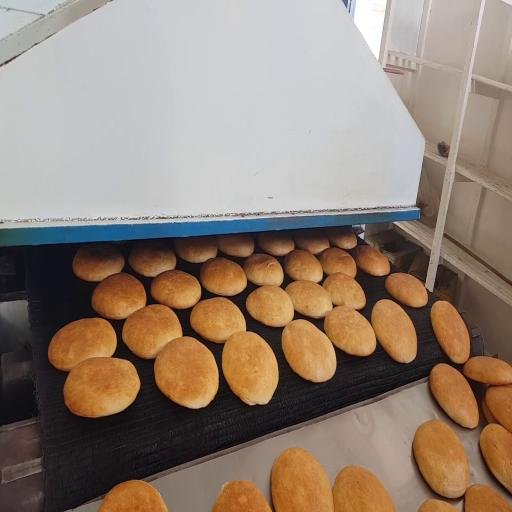bread: (154, 337, 218, 409), (64, 357, 140, 417), (413, 420, 469, 498), (222, 331, 278, 405), (271, 448, 334, 511), (48, 318, 116, 371), (282, 320, 336, 382), (123, 304, 182, 358), (430, 364, 479, 428), (372, 300, 417, 363), (333, 466, 395, 511), (324, 306, 376, 356), (92, 273, 146, 319), (190, 298, 246, 342), (431, 301, 470, 363), (480, 424, 511, 492), (99, 481, 167, 511), (73, 243, 124, 282), (246, 286, 294, 327), (151, 270, 201, 309), (128, 240, 177, 277), (213, 480, 271, 511), (200, 258, 247, 296), (286, 281, 332, 318), (323, 273, 365, 310), (385, 273, 427, 307), (463, 357, 511, 385), (284, 250, 323, 283), (243, 254, 283, 286), (465, 485, 511, 511), (174, 236, 218, 263), (486, 385, 511, 432), (318, 248, 356, 277), (354, 246, 390, 276), (216, 233, 254, 257), (258, 231, 294, 256), (294, 230, 329, 255), (326, 227, 357, 249), (419, 499, 458, 511), (482, 396, 498, 423)
